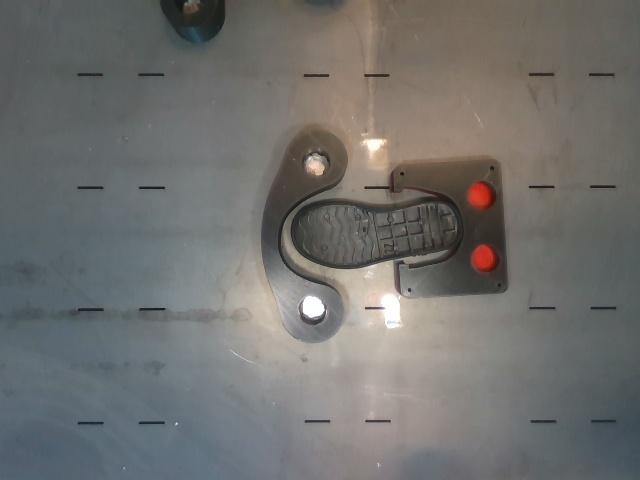shoes: (291, 200, 461, 269)
